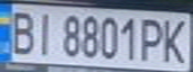0: (100, 14, 121, 61)
1: (118, 14, 142, 61)
8: (78, 11, 103, 60), (57, 11, 81, 58)
B: (3, 7, 39, 56)
I: (30, 8, 60, 56)
K: (157, 15, 193, 64)
P: (139, 15, 169, 63)
